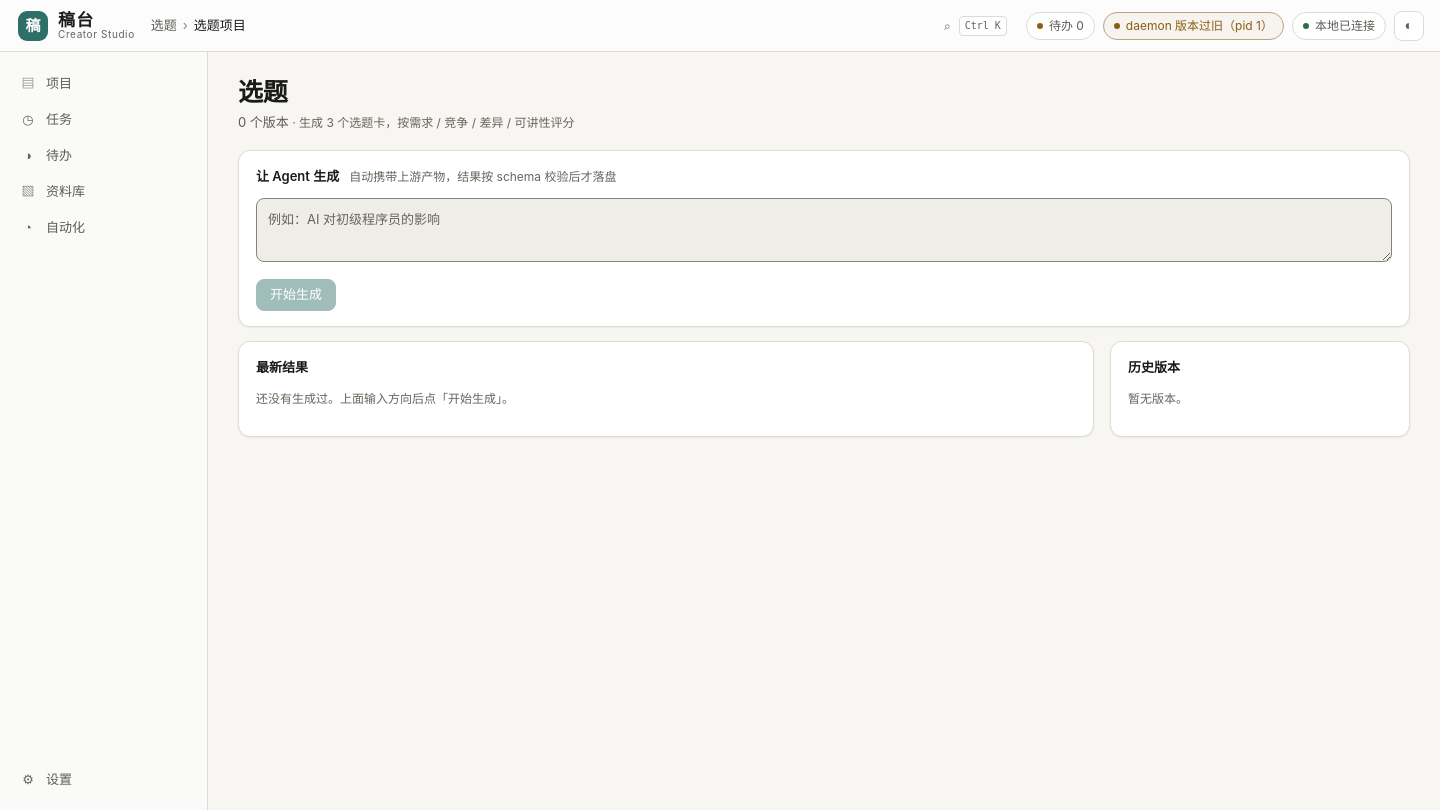
it: R5 topic page uses real data › surfaces a MODEL_BAD_OUTPUT error without rendering content
The width and height of the screenshot is (1440, 810).
In the text box with placeholder "例如：AI 对初级程序员的影响": (824,230) [256,198,1392,262], type "x"
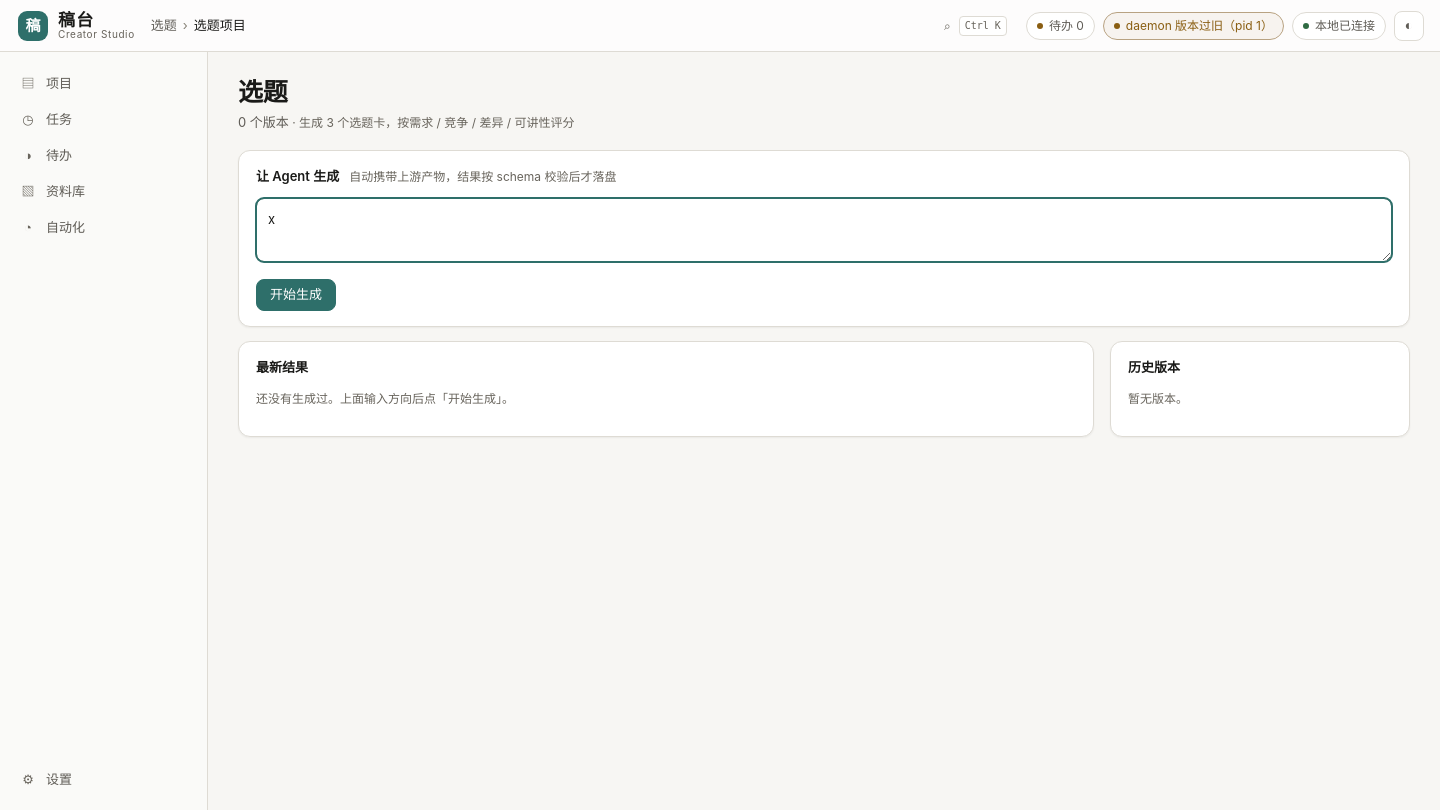
Click the button "开始生成": (296,295) [256,279,336,311]
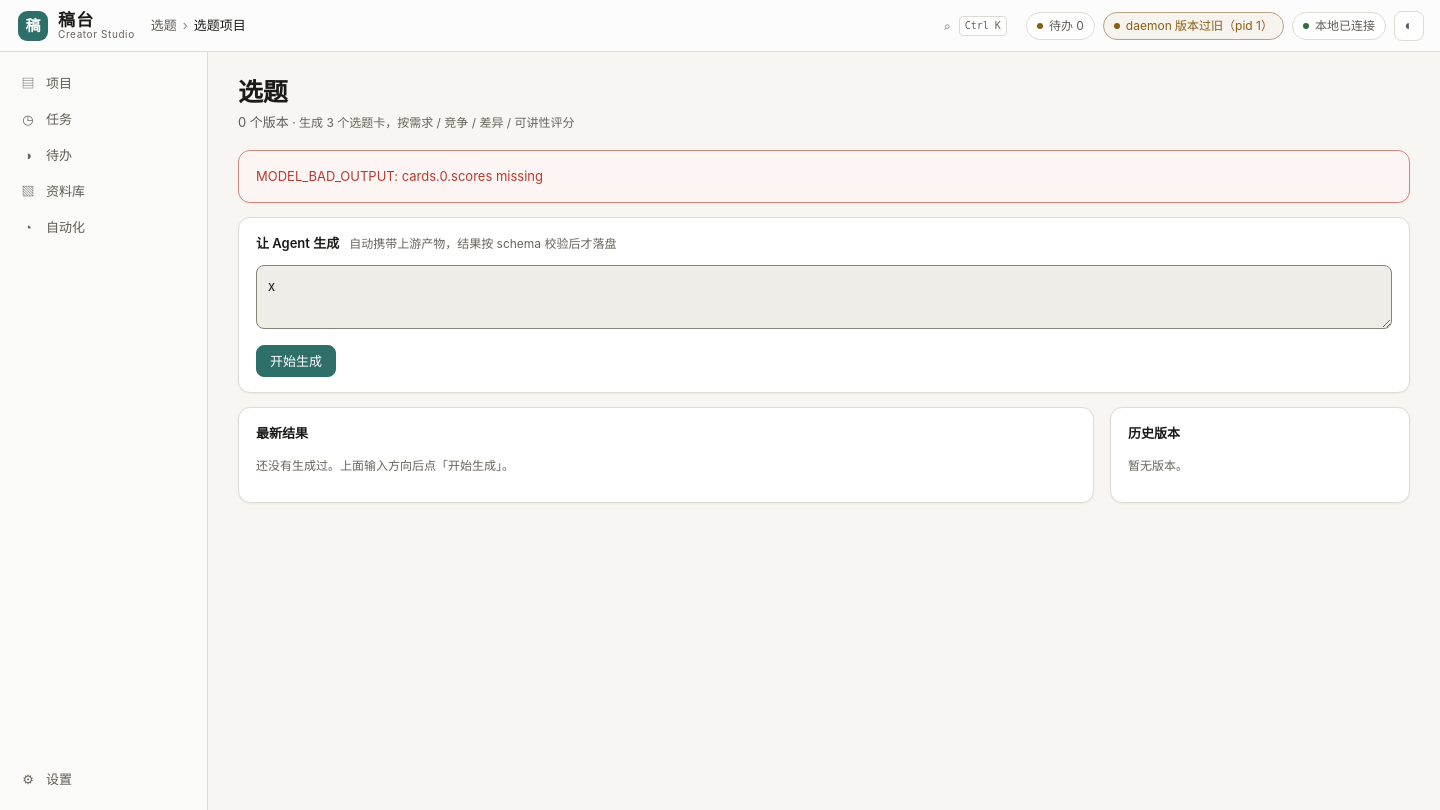
Result: the text "MODEL_BAD_OUTPUT: cards.0.scores missing" is shown at [238,150,1410,203]
